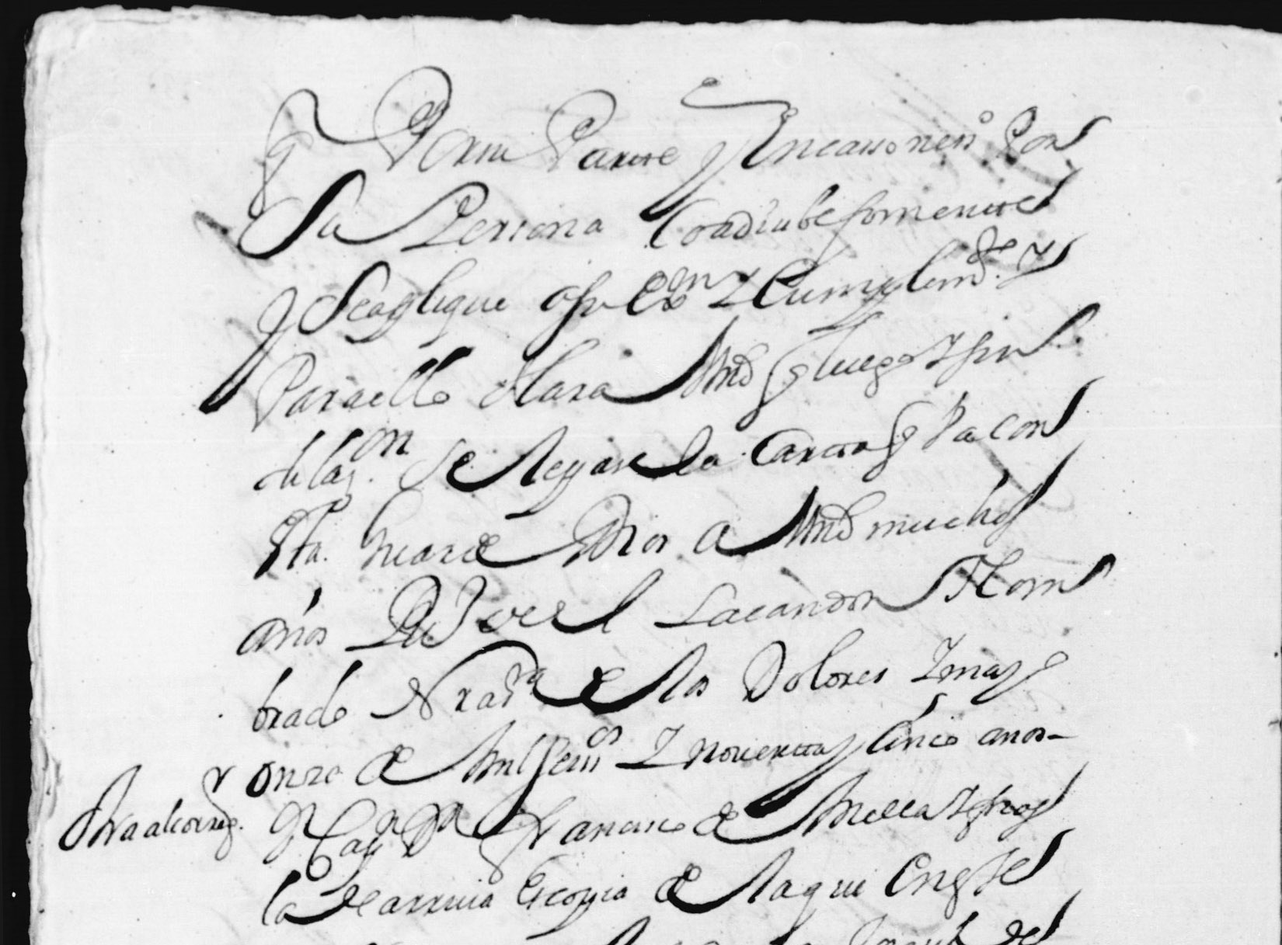lacandon: (653, 560, 960, 628)
